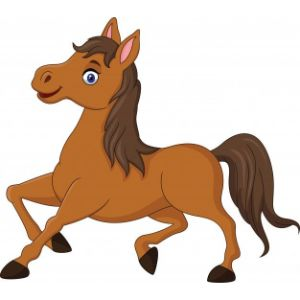horse: (6, 16, 299, 283)
